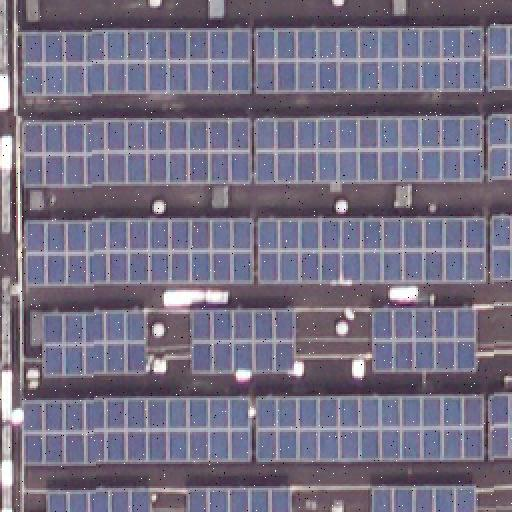solar-panel: (17, 30, 247, 98), (254, 118, 482, 186), (19, 219, 253, 285), (18, 123, 250, 189), (252, 30, 484, 94), (253, 396, 483, 460), (22, 400, 250, 464), (258, 221, 486, 283), (41, 312, 143, 376), (372, 309, 476, 371), (189, 309, 291, 371), (373, 486, 475, 510), (186, 489, 290, 511), (49, 490, 151, 510), (484, 115, 512, 181), (488, 394, 512, 458), (488, 217, 512, 279), (488, 30, 512, 90)
